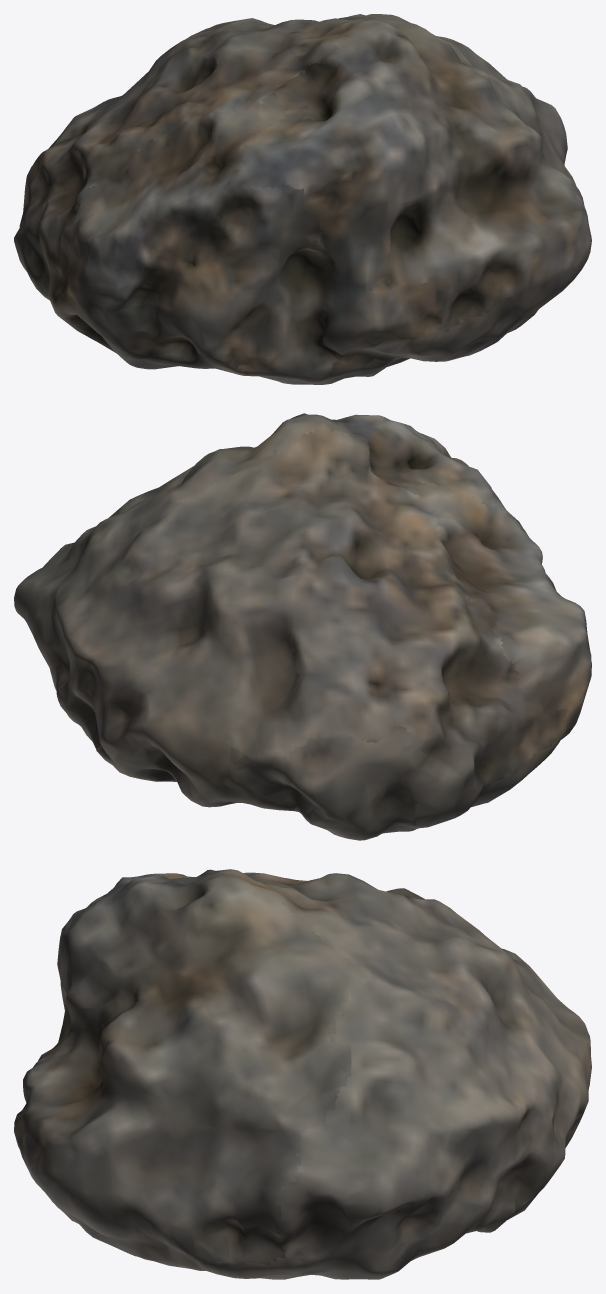
File: asteroid_common_1_lod2.glb
3 views of the same model, one above another, from view 1: azimuth 30°, elevation 25°; view 2: azimuth 150°, elevation 25°; view 3: azimuth 270°, elevation 25° (orthographic). The views are drawn at different scales.
Visible parts, largest first — view 1: model; view 2: model; view 3: model.
Boxes of the visible parts, box(x1,y1,x2,y2) form: model: box(14, 14, 591, 384); model: box(14, 413, 591, 840); model: box(14, 869, 591, 1279).
Size of the model in its own units: 1.88 by 1.15 by 1.67.
Materials: 1 (1 with a texture image).
